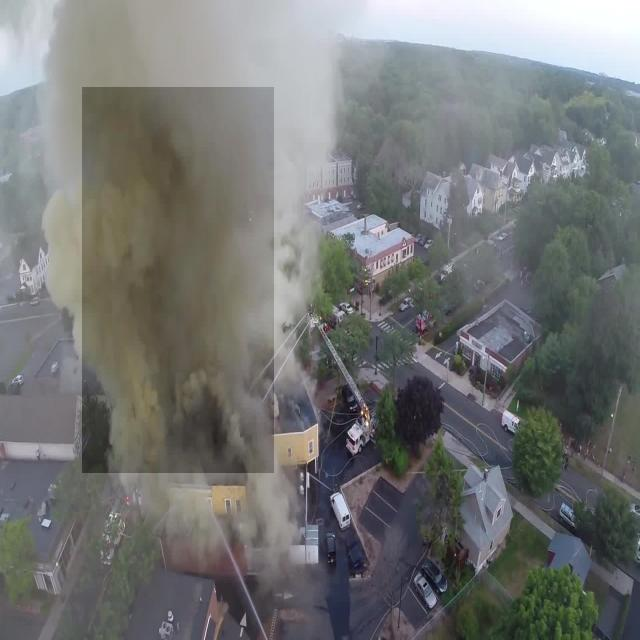Smoke: (82, 87, 274, 473)
